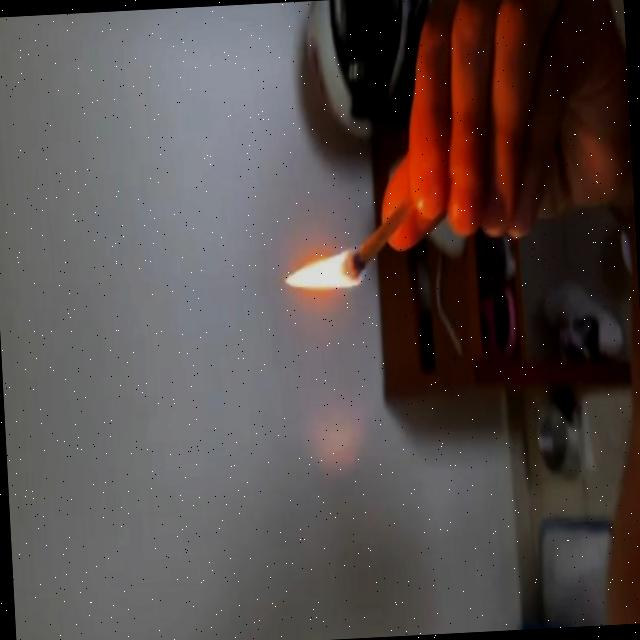fire: (282, 245, 370, 291)
